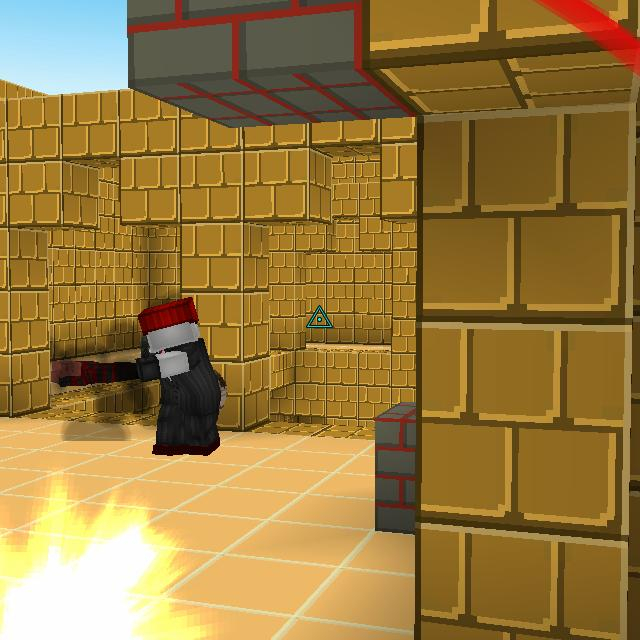enemy: (136, 291, 222, 458)
